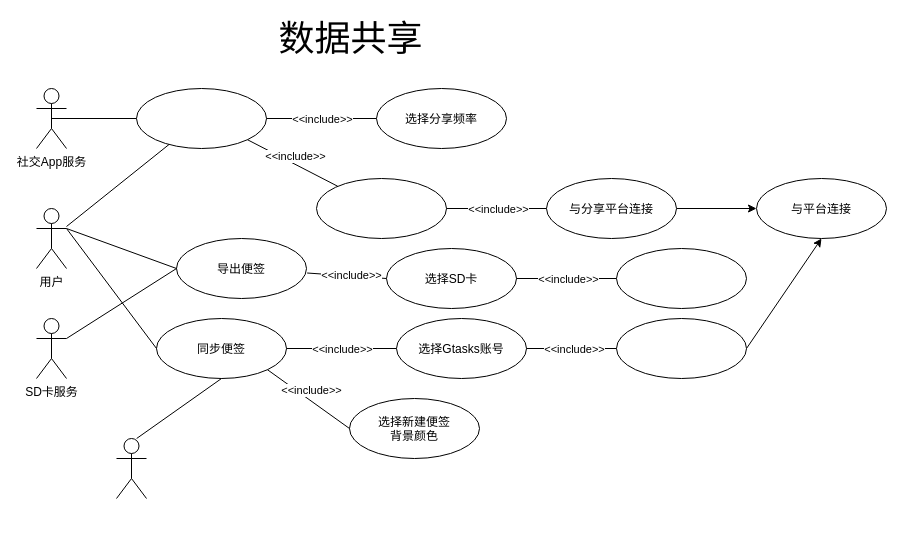
This 904x537 diagram has some shape labels left out. Each missing label, with the centre of its shape:
"Gtasks平台服务" goes at pixel 131 468.
"与Gtasks平台连接" goes at pixel 681 348.
"分享便签" goes at pixel 201 118.
"判断SD卡是否插入" goes at pixel 681 278.
"选择分享方式" goes at pixel 381 208.
